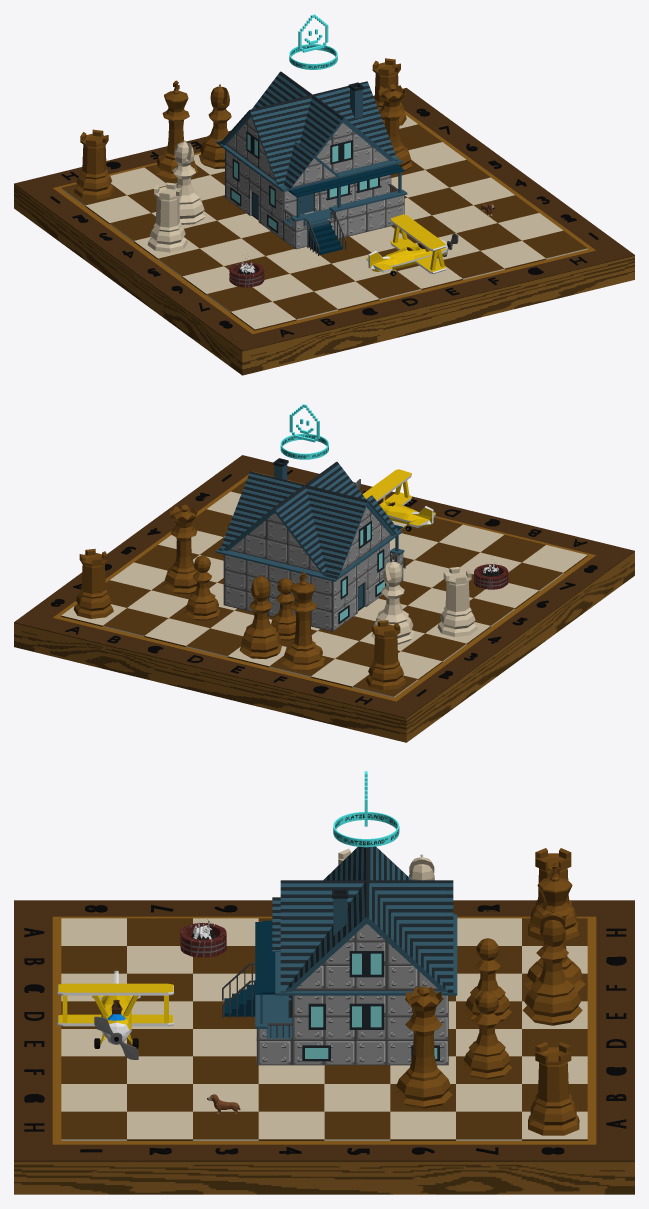
3 renders of one model, top to bottom at view 1: azimuth 30°, elevation 25°; view 2: azimuth 150°, elevation 25°; view 3: azimuth 270°, elevation 25°, orthographic. The views are drawn at different scales.
Parts seen in each view (by area): view 1: Cube.002, Cube.078, VEHICLES_AIRPLANE, TYPE_PREMIUM, OBJRANDOM_CAMPFIRE; view 2: Cube.002, Cube.078, VEHICLES_AIRPLANE, TYPE_PREMIUM, OBJRANDOM_CAMPFIRE; view 3: Cube.002, Cube.078, VEHICLES_AIRPLANE, OBJRANDOM_CAMPFIRE, TYPE_PREMIUM.
Boxes of the visible parts, box(x1,y1,x2,y2) form: Cube.002: box(14, 58, 634, 375); Cube.078: box(216, 71, 407, 255); VEHICLES_AIRPLANE: box(366, 214, 458, 276); TYPE_PREMIUM: box(289, 14, 337, 69); OBJRANDOM_CAMPFIRE: box(229, 258, 264, 287); Cube.002: box(14, 455, 634, 742); Cube.078: box(215, 458, 405, 631); VEHICLES_AIRPLANE: box(355, 469, 435, 531); TYPE_PREMIUM: box(280, 404, 328, 459); OBJRANDOM_CAMPFIRE: box(473, 563, 508, 589); Cube.002: box(14, 848, 634, 1194); Cube.078: box(222, 846, 457, 1065); VEHICLES_AIRPLANE: box(57, 970, 173, 1059); OBJRANDOM_CAMPFIRE: box(180, 919, 226, 957); TYPE_PREMIUM: box(333, 771, 399, 847).
Bounding box in the file's own units: 3981 × 2279 × 4012.
Materials: 39 (5 with a texture image).
